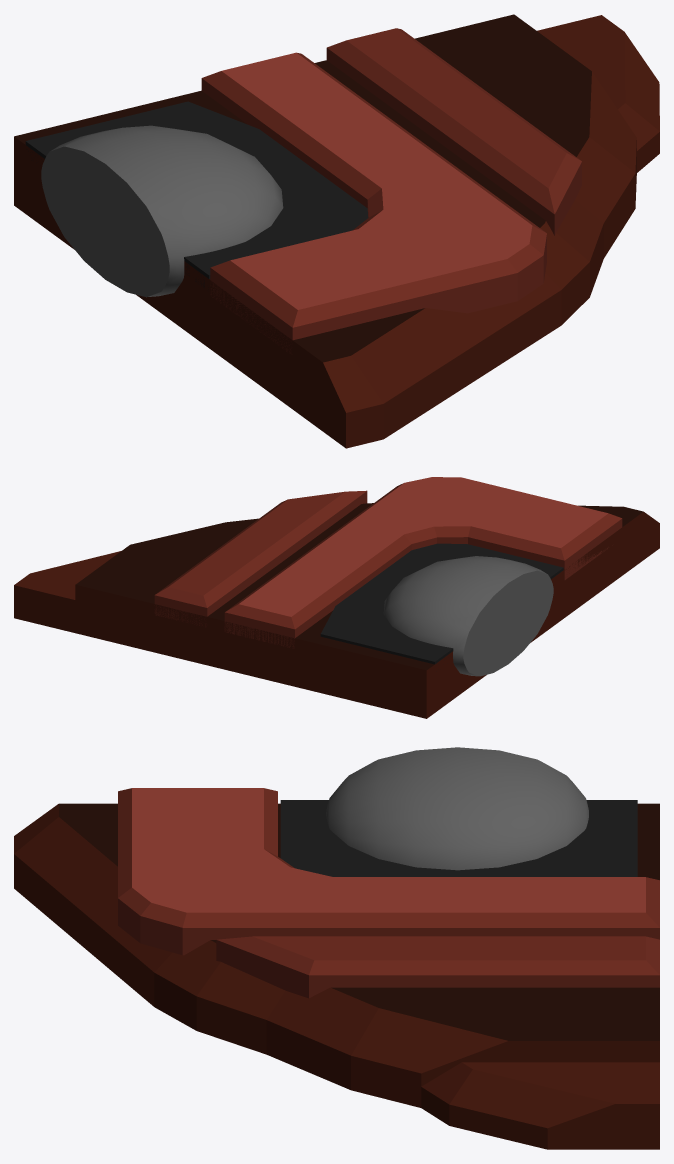
The model's file is newshf-238.glb.
The picture shows the model from 3 angles, top to bottom: view 1: azimuth 30°, elevation 25°; view 2: azimuth 150°, elevation 25°; view 3: azimuth 270°, elevation 25°; orthographic projection. The views are drawn at different scales.
Visible parts, largest first — view 1: newshf-238; view 2: newshf-238; view 3: newshf-238.
Boxes of the visible parts, x1=… form: newshf-238: x1=14, y1=14, x2=659, y2=448; newshf-238: x1=14, y1=477, x2=659, y2=718; newshf-238: x1=14, y1=747, x2=659, y2=1149.
Bounding box in the file's own units: 2 × 0.3975 × 1.92.
